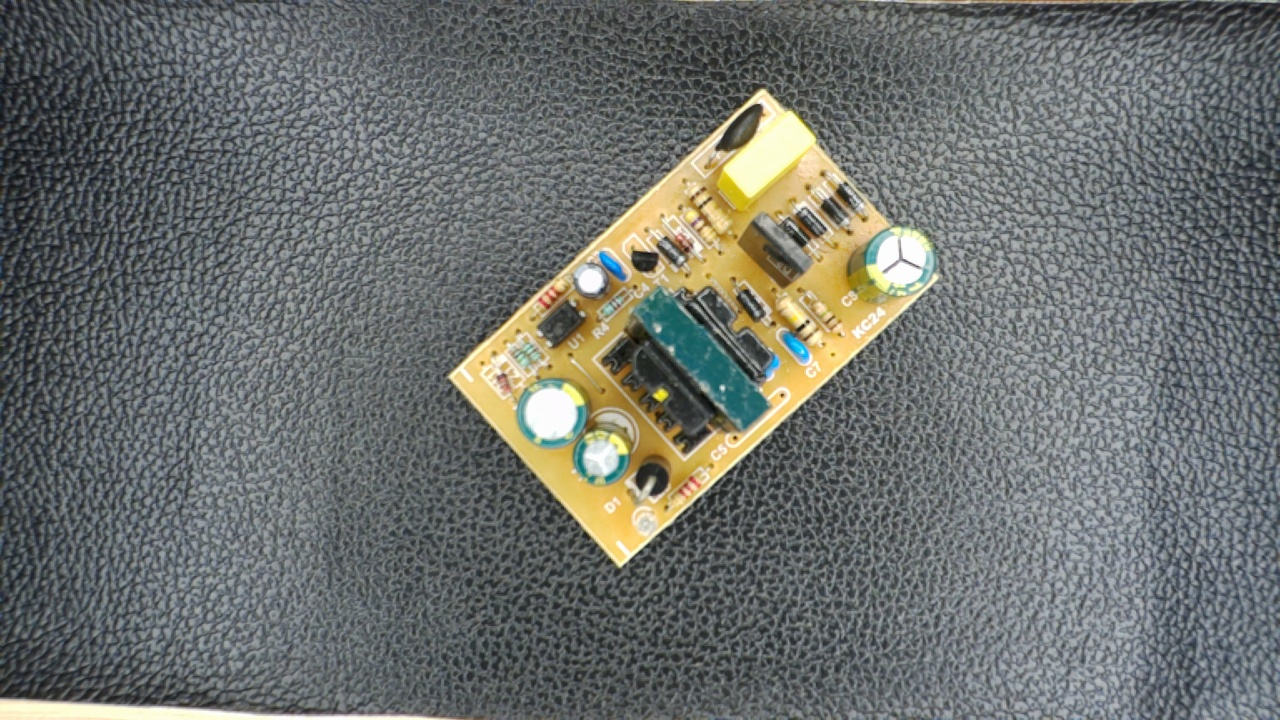fuse: (702, 101, 770, 174)
hv_capacitor: (849, 218, 938, 305)
optocoupler: (528, 299, 596, 351)
